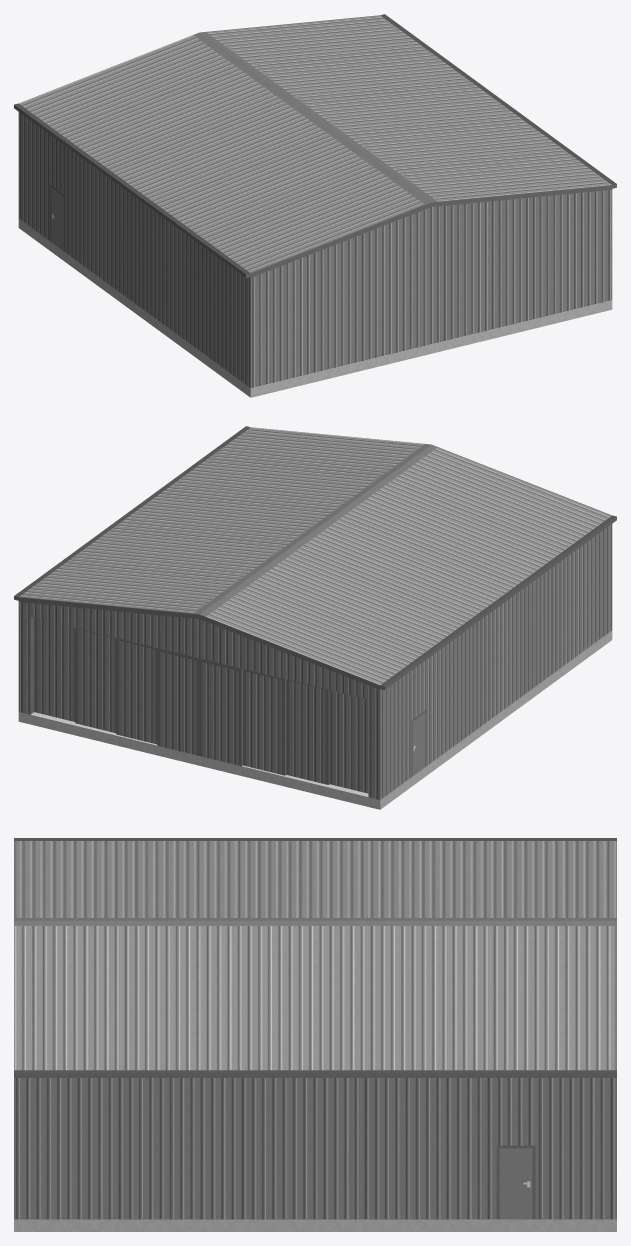
The model's file is hangar-18x20x5grey-cbj_LOD00.gltf.
3 views of the same model, one above another, from view 1: azimuth 30°, elevation 25°; view 2: azimuth 150°, elevation 25°; view 3: azimuth 270°, elevation 25° (orthographic). The views are drawn at different scales.
Visible parts, largest first — view 1: hangar; view 2: hangar; view 3: hangar.
Part boxes in pixels (x1=…): hangar: x1=14, y1=14, x2=616, y2=397; hangar: x1=14, y1=426, x2=616, y2=809; hangar: x1=14, y1=838, x2=616, y2=1231.
Bounding box in the file's own units: 18.44 × 7.19 × 20.
